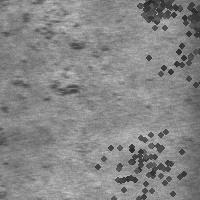rolled-in_scale: (92, 108, 200, 200), (128, 2, 200, 118), (4, 3, 81, 65), (2, 72, 81, 112), (130, 0, 182, 29), (179, 0, 200, 38)
